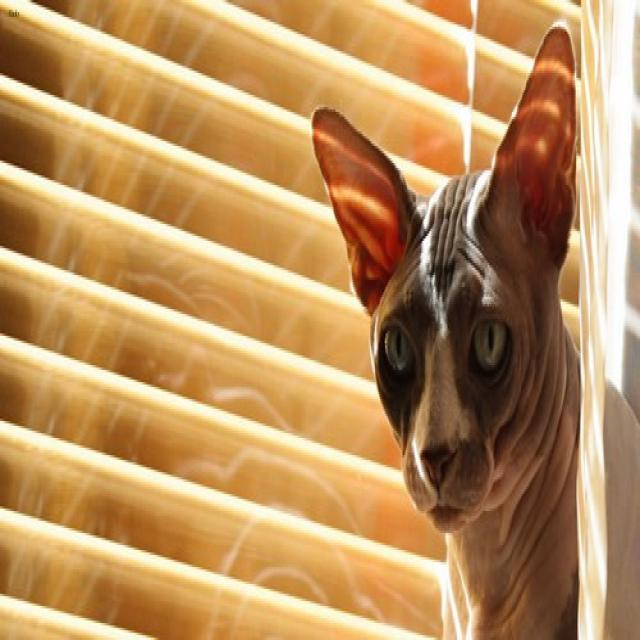Sphynx: (308, 21, 582, 535)
